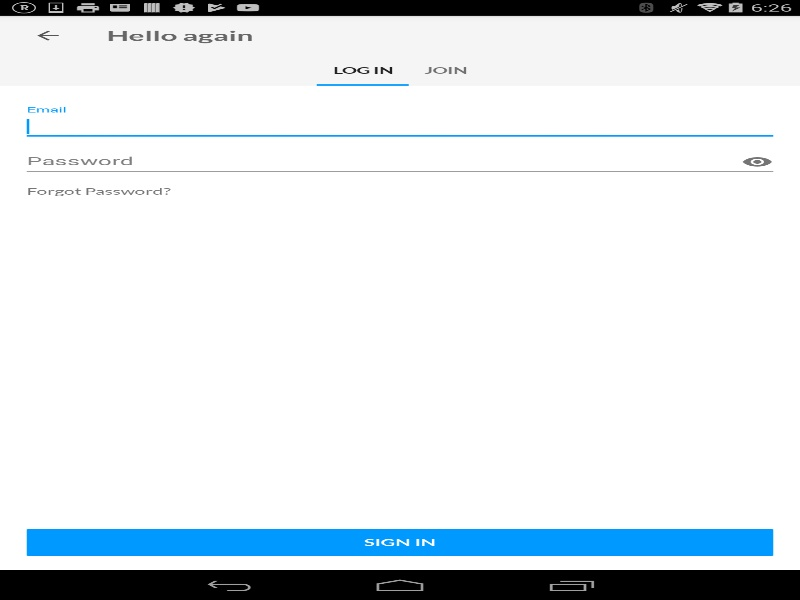Button: (21, 525, 778, 560), (10, 15, 85, 55), (736, 148, 778, 176)
Input: (21, 147, 778, 176), (21, 112, 778, 140)
